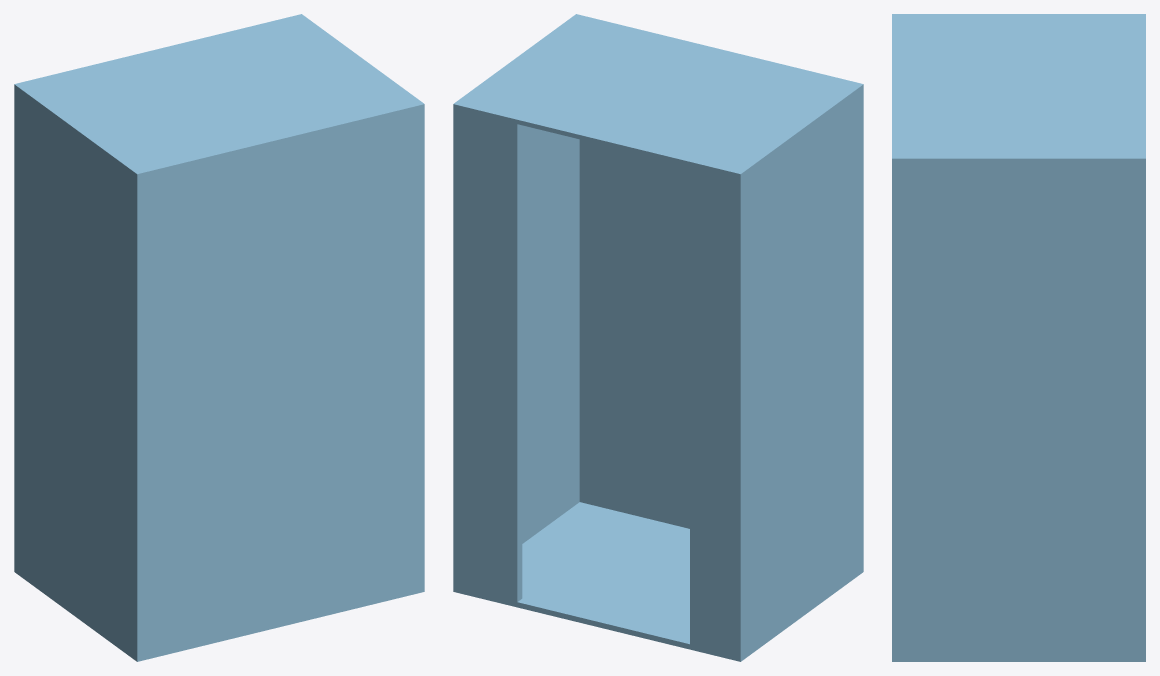
The model's file is elevator_car.dae.
The picture shows the model from 3 angles, left to right: view 1: azimuth 30°, elevation 25°; view 2: azimuth 150°, elevation 25°; view 3: azimuth 270°, elevation 25°; orthographic projection. The views are drawn at different scales.
Parts seen in each view (by area): view 1: ID2; view 2: ID2; view 3: ID2.
Part boxes in pixels (x1,y1,x2,y2): ID2: [14, 14, 424, 661]; ID2: [453, 14, 863, 661]; ID2: [892, 14, 1145, 661].
Bounding box in the file's own units: 1.7 × 1.26 × 2.76.
